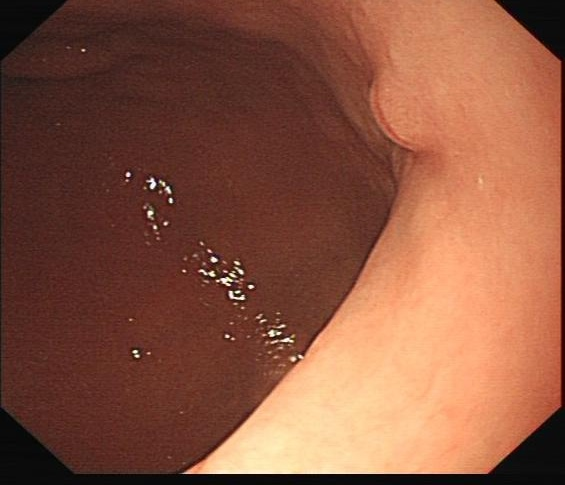Polyp: (354, 55, 458, 174)
